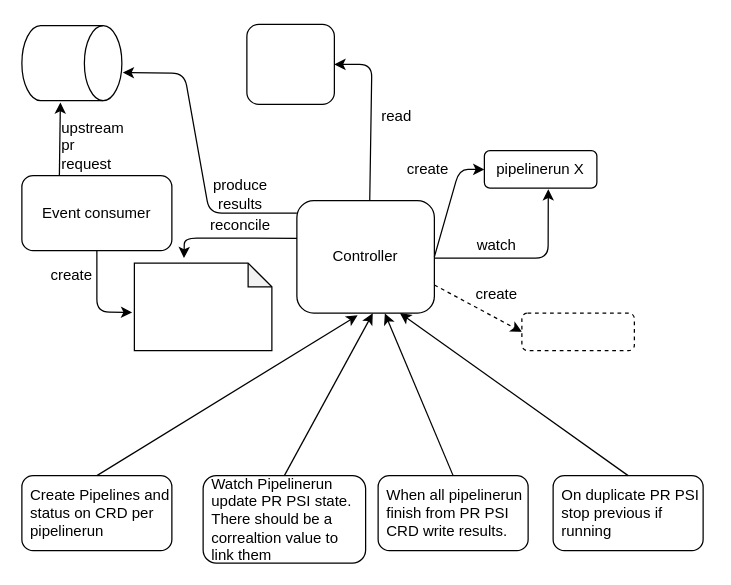
This 731x585 diagram has some shape labels left out. Here are the shapes that lost their labels. From the top down, the centre of each, then its label:
At (x=290, y=63): "Config".
At (x=202, y=306): "CRD: PR PSI".
At (x=577, y=331): "pipelinerun Y".
